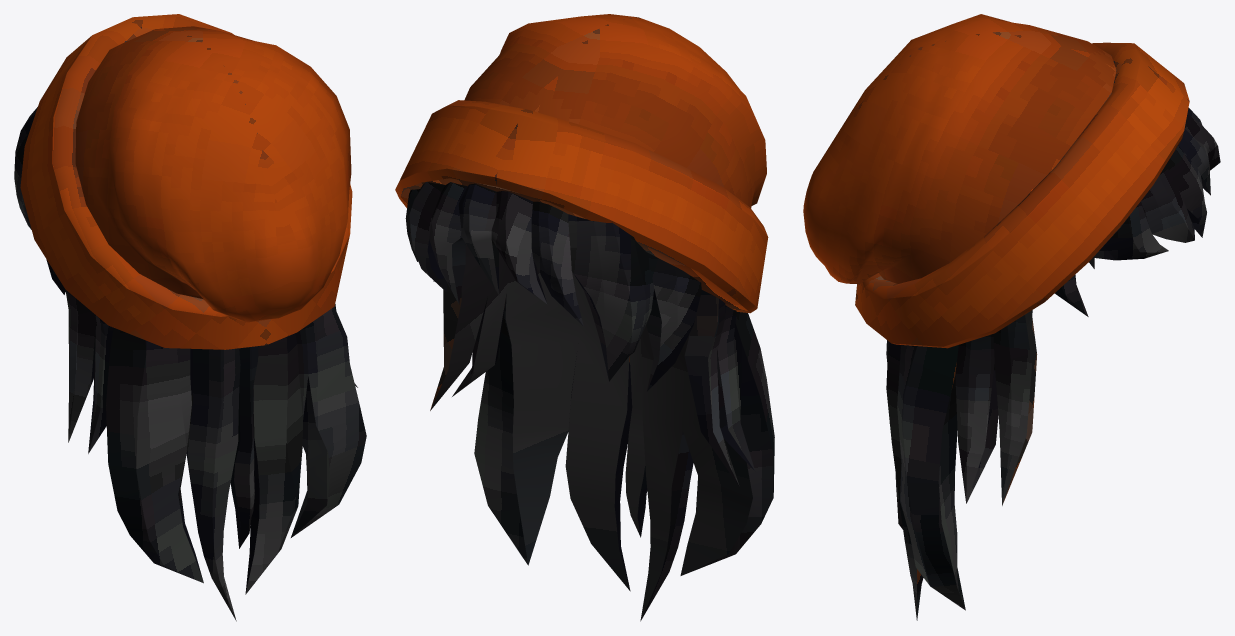
The model's file is beanie.obj.
3 views of the same model, side by side, from view 1: azimuth 30°, elevation 25°; view 2: azimuth 150°, elevation 25°; view 3: azimuth 270°, elevation 25° (orthographic). The views are drawn at different scales.
Visible parts, largest first — view 1: Beanie; view 2: Beanie; view 3: Beanie.
Part boxes in pixels (<box>): Beanie: <box>14,14,366,621</box>; Beanie: <box>395,14,774,621</box>; Beanie: <box>803,14,1220,620</box>.
Bounding box in the file's own units: 1.71 × 3.1 × 1.99.
Materials: 1 (1 with a texture image).
